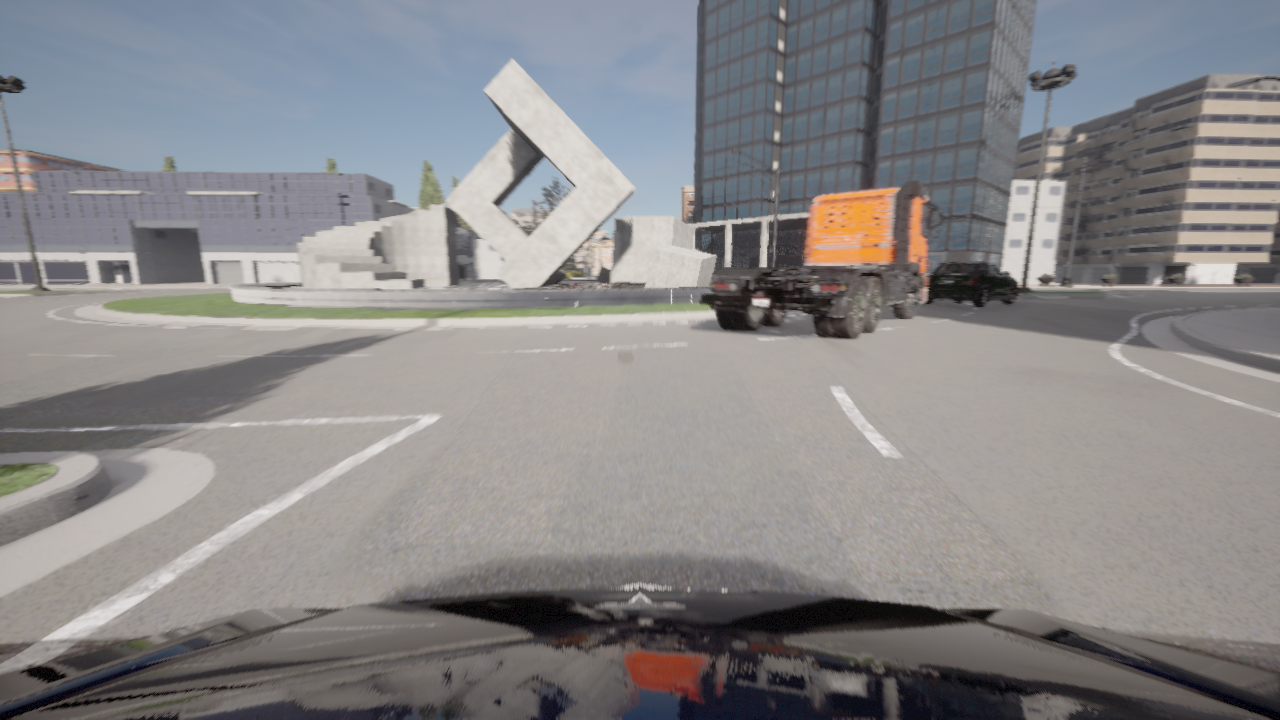cyclist: (0, 584, 1279, 719), (700, 179, 941, 339), (921, 258, 1017, 306), (695, 249, 718, 279), (925, 269, 932, 276), (565, 277, 570, 279)
